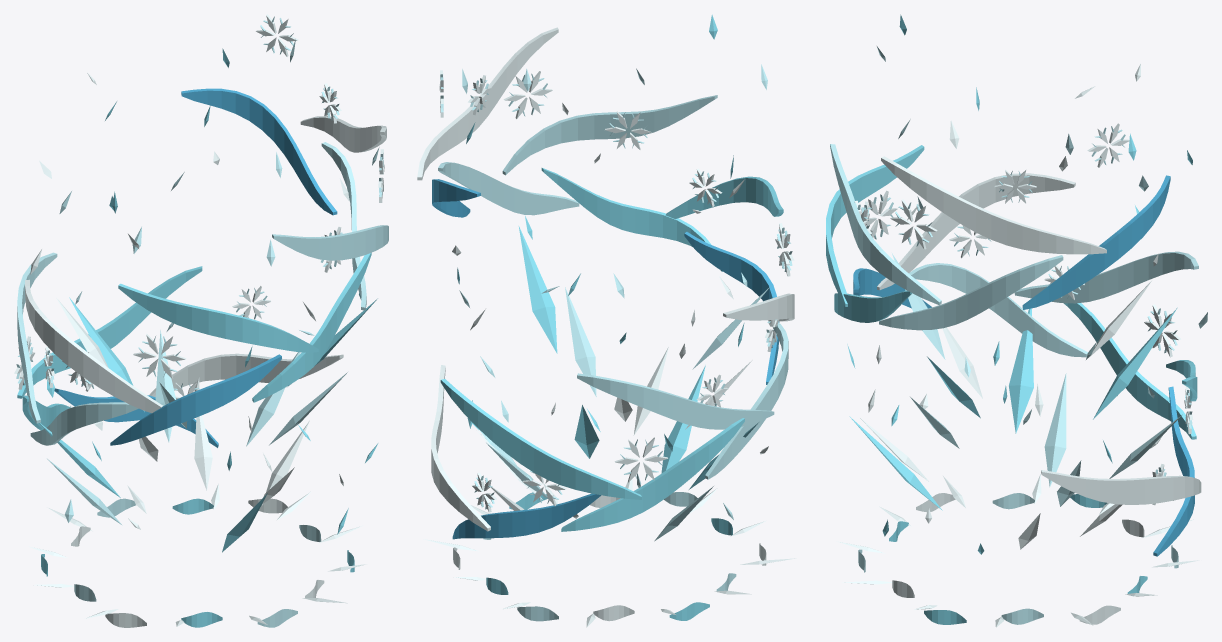
File: blizzard.fbx
3 renders of one model, left to right at view 1: azimuth 30°, elevation 25°; view 2: azimuth 150°, elevation 25°; view 3: azimuth 270°, elevation 25°, orthographic. The views are drawn at different scales.
Visible parts, largest first — view 1: BlizzardFX; view 2: BlizzardFX; view 3: BlizzardFX.
Boxes of the visible parts, x1,y1,x2,y2 form: BlizzardFX: (14, 14, 388, 627); BlizzardFX: (417, 14, 796, 627); BlizzardFX: (826, 14, 1207, 627).
Size of the model in its own units: 2.13 by 3.22 by 2.1.
